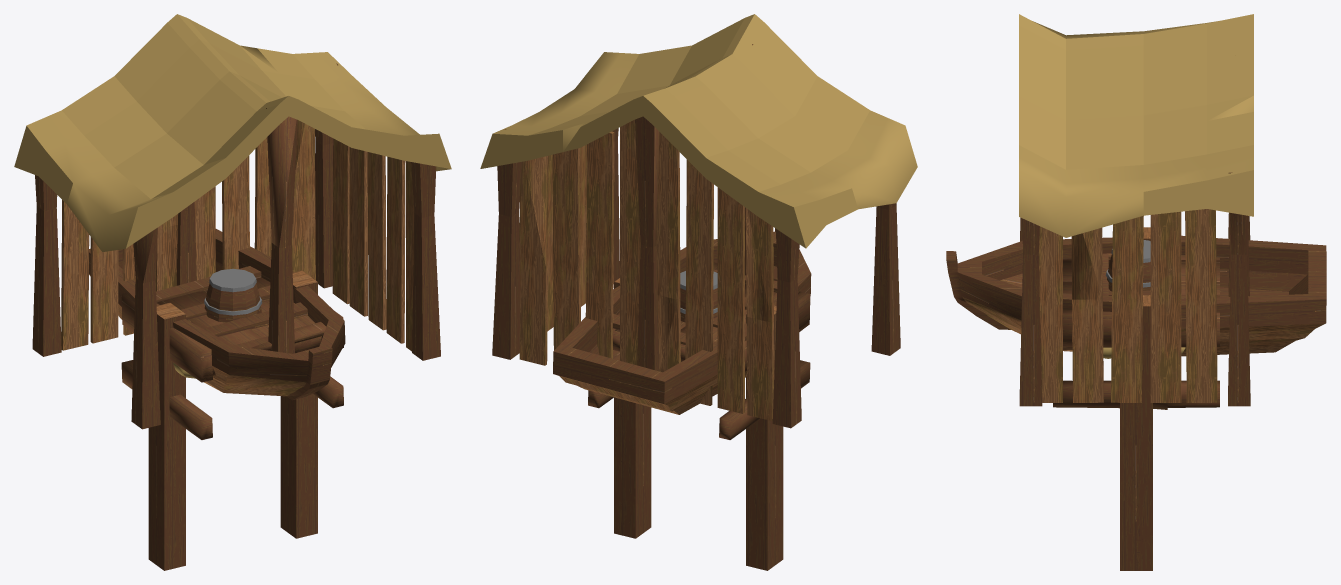
Rendered from port-kit.gltf.
3 renders of one model, left to right at view 1: azimuth 30°, elevation 25°; view 2: azimuth 150°, elevation 25°; view 3: azimuth 270°, elevation 25°, orthographic. The views are drawn at different scales.
Parts seen in each view (by area): view 1: Dock_Hut, Pier_Posts, Boat_Rowboat, Pier_Deck_2m, Prop_Barrel; view 2: Dock_Hut, Pier_Posts, Boat_Rowboat, Pier_Deck_2m; view 3: Dock_Hut, Boat_Rowboat, Pier_Posts, Pier_Deck_2m, Prop_Barrel.
Boxes of the visible parts, x1,y1,x2,y2 form: Dock_Hut: (14,14,451,429); Pier_Posts: (148,270,317,570); Boat_Rowboat: (89,229,345,400); Pier_Deck_2m: (121,277,343,439); Prop_Barrel: (204,268,262,322); Dock_Hut: (480,14,917,428); Pier_Posts: (614,278,783,570); Boat_Rowboat: (553,228,811,414); Pier_Deck_2m: (588,284,810,439); Dock_Hut: (1019,14,1253,406); Boat_Rowboat: (946,235,1326,356); Pier_Posts: (1120,227,1152,570); Pier_Deck_2m: (1053,255,1219,408); Prop_Barrel: (1105,240,1150,291).
Size of the model in its own units: 4.77 by 6.83 by 4.55.
Materials: 4 (2 with a texture image).
